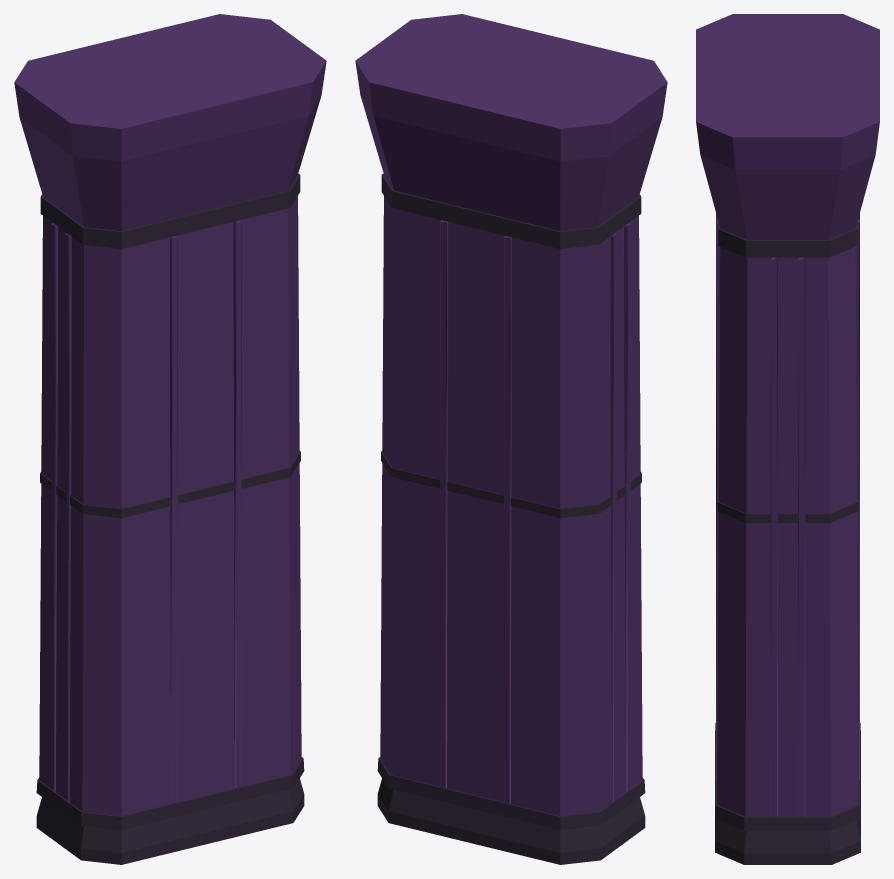
File: SM_SB_Kit_AlienColumn_400x200x1500.fbx
3 renders of one model, left to right at view 1: azimuth 30°, elevation 25°; view 2: azimuth 150°, elevation 25°; view 3: azimuth 270°, elevation 25°, orthographic.
Visible parts, largest first — view 1: SM_SB_Kit_AlienColumn_400x200x1500; view 2: SM_SB_Kit_AlienColumn_400x200x1500; view 3: SM_SB_Kit_AlienColumn_400x200x1500.
Boxes of the visible parts, <box> form: SM_SB_Kit_AlienColumn_400x200x1500: <box>14,14,326,864</box>; SM_SB_Kit_AlienColumn_400x200x1500: <box>355,14,667,864</box>; SM_SB_Kit_AlienColumn_400x200x1500: <box>696,14,879,864</box>.
Bounding box in the file's own units: 540 × 340 × 1500.
